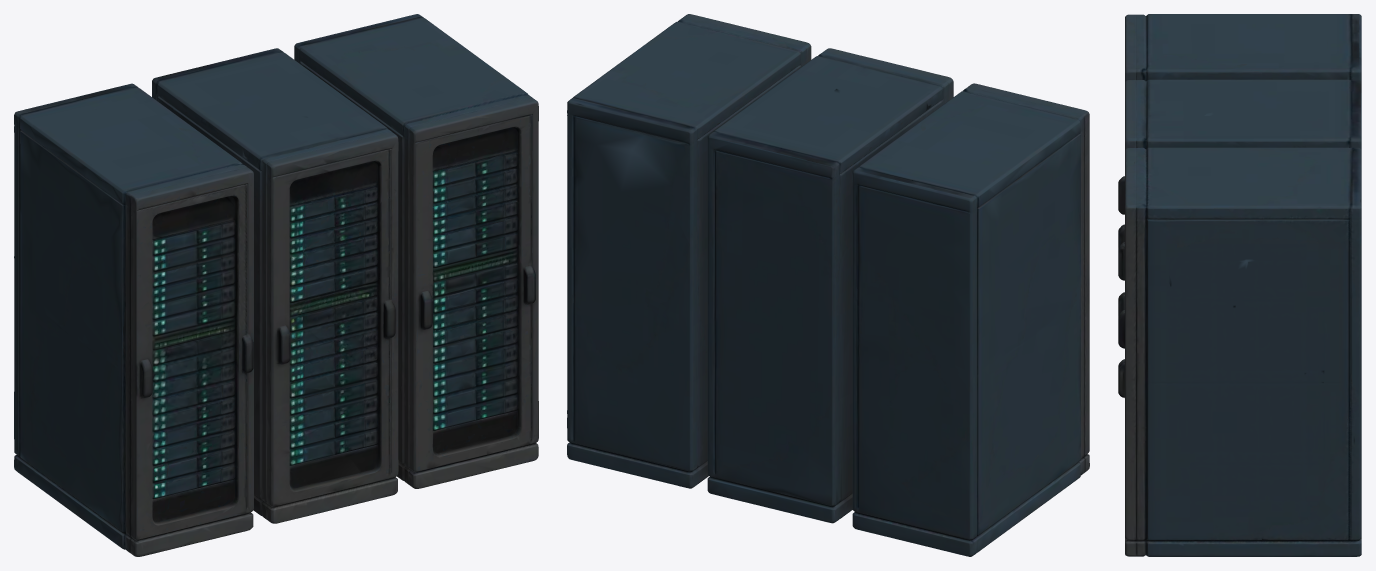
The model's file is servers.glb.
3 views of the same model, side by side, from view 1: azimuth 30°, elevation 25°; view 2: azimuth 150°, elevation 25°; view 3: azimuth 270°, elevation 25° (orthographic). The views are drawn at different scales.
Parts seen in each view (by area): view 1: node_0; view 2: node_0; view 3: node_0.
Boxes of the visible parts, bbox=[...] form: node_0: bbox=[14, 14, 538, 556]; node_0: bbox=[567, 14, 1089, 556]; node_0: bbox=[1118, 14, 1361, 556].
Bounding box in the file's own units: 0.8565 × 0.7232 × 0.4545.
Materials: 1 (1 with a texture image).
